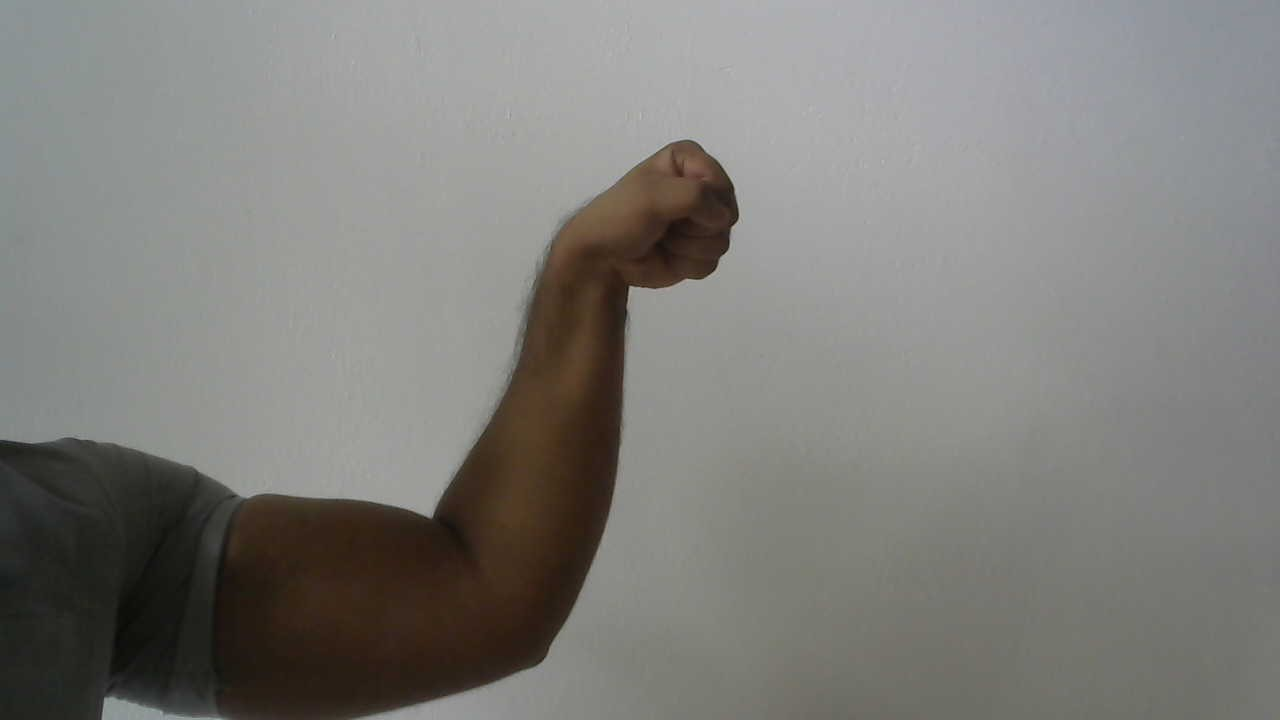yes: (522, 116, 761, 317)
